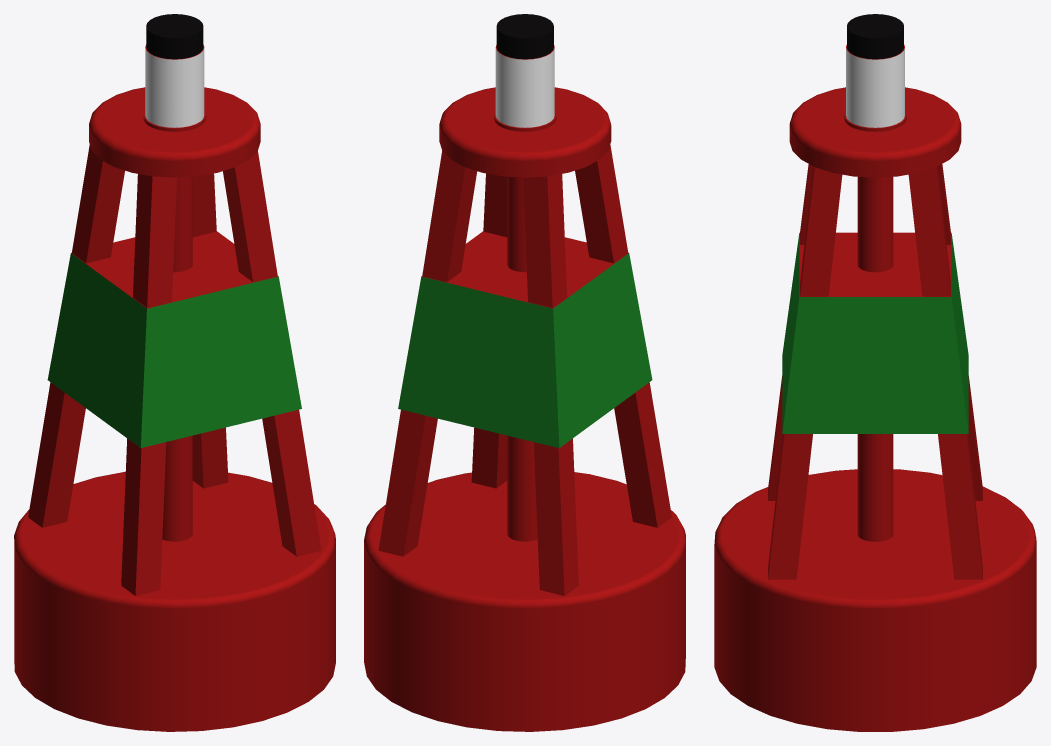
File: starboard_bifurcation_buoy.glb
3 views of the same model, side by side, from view 1: azimuth 30°, elevation 25°; view 2: azimuth 150°, elevation 25°; view 3: azimuth 270°, elevation 25° (orthographic).
Parts seen in each view (by area): view 1: Object_4, Object_3, Object_5, Object_2; view 2: Object_4, Object_3, Object_5, Object_2; view 3: Object_4, Object_3, Object_5, Object_2.
Part boxes in pixels (bbox=[...]): Object_4: bbox=[14, 44, 335, 731]; Object_3: bbox=[47, 253, 301, 447]; Object_5: bbox=[145, 48, 204, 127]; Object_2: bbox=[146, 14, 203, 59]; Object_4: bbox=[364, 45, 685, 731]; Object_3: bbox=[398, 253, 652, 448]; Object_5: bbox=[495, 48, 554, 127]; Object_2: bbox=[496, 14, 553, 59]; Object_4: bbox=[714, 44, 1036, 731]; Object_3: bbox=[782, 234, 968, 433]; Object_5: bbox=[846, 48, 904, 127]; Object_2: bbox=[847, 14, 903, 59].
Bounding box in the file's own units: 44.94 × 98.25 × 44.94.
